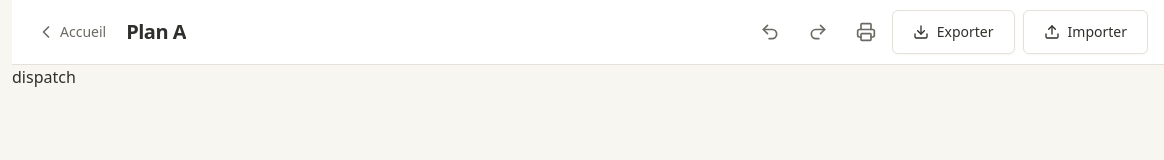
Test case: TopBar › renames the plan on Enter
Click the button "Plan A" at (156, 32), box x1=126 y1=10 x2=186 y2=54
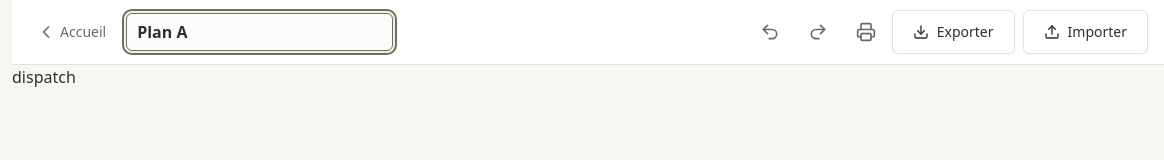
Replace the text in the field with "Mariage Alice & Bob" at (260, 32), box x1=126 y1=13 x2=393 y2=51
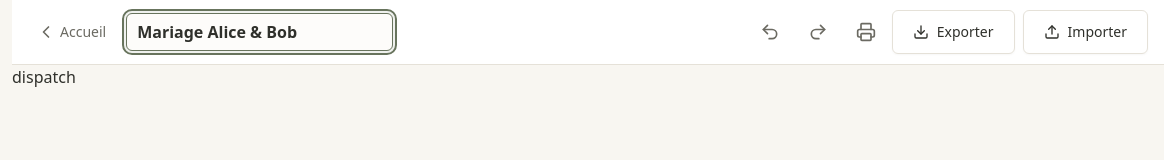
Press Enter in the field, box x1=126 y1=13 x2=393 y2=51
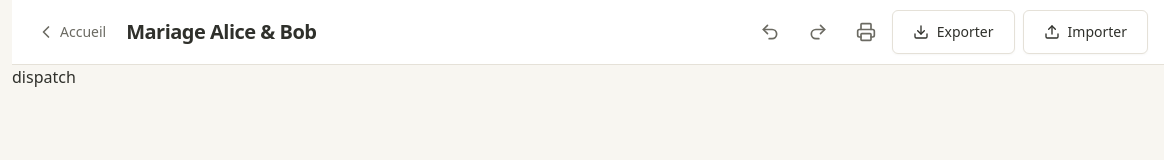
Result: the field is gone
Result: the button "Mariage Alice & Bob" is shown at x1=126 y1=10 x2=317 y2=54
